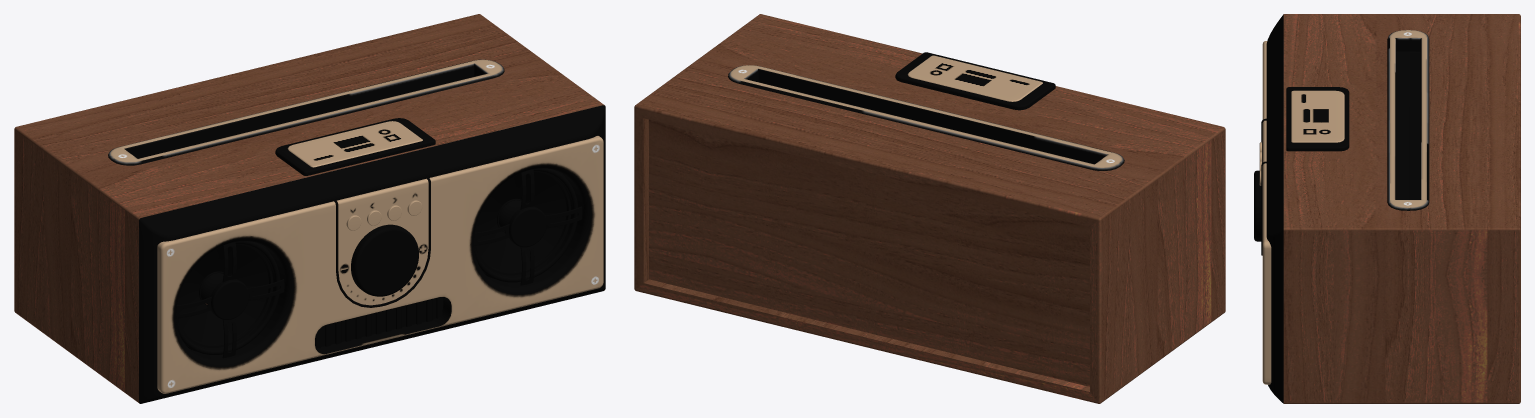
Rendered from MEGA_PACK_Electronic__electronic_230181.glb.
3 renders of one model, left to right at view 1: azimuth 30°, elevation 25°; view 2: azimuth 150°, elevation 25°; view 3: azimuth 270°, elevation 25°, orthographic. The views are drawn at different scales.
Parts seen in each view (by area): view 1: electronic_230181; view 2: electronic_230181; view 3: electronic_230181.
Boxes of the visible parts, x1,y1,x2,y2 form: electronic_230181: [14, 14, 605, 403]; electronic_230181: [634, 14, 1225, 403]; electronic_230181: [1254, 14, 1520, 403].
Bounding box in the file's own units: 0.21 × 0.0822 × 0.1099.
Materials: 1 (1 with a texture image).
